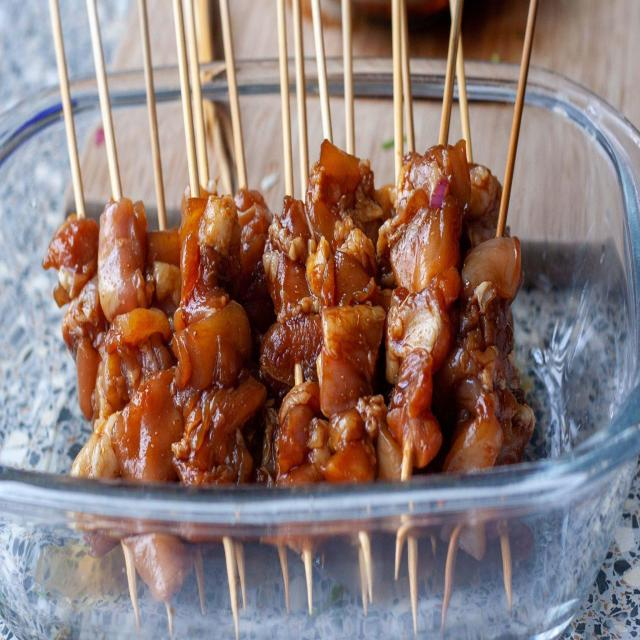Sate: (35, 22, 581, 590)
